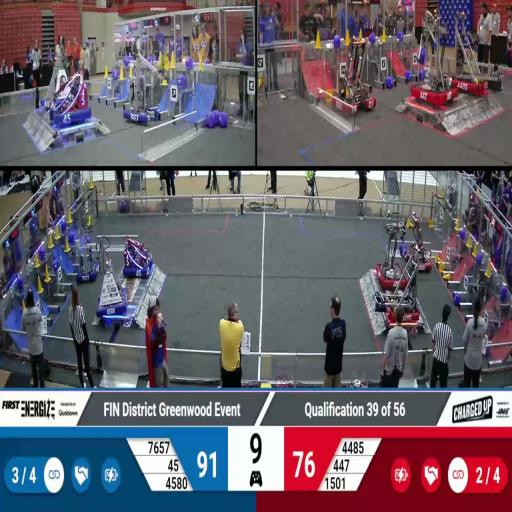robot: (409, 4, 456, 105), (449, 9, 503, 96), (331, 38, 378, 113), (374, 256, 423, 326), (39, 65, 92, 126), (92, 236, 129, 316), (122, 48, 160, 122), (378, 215, 408, 290), (398, 212, 432, 271), (75, 226, 98, 284), (123, 238, 154, 279)
